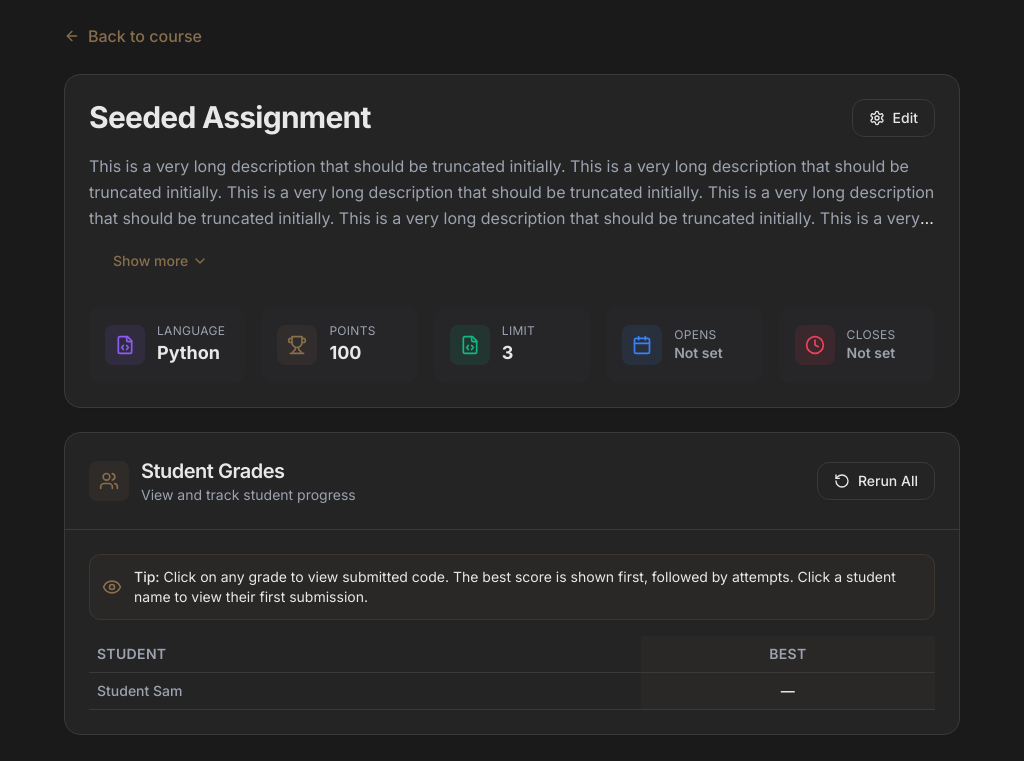
Test: AssignmentDetailPage (MSW, updated) › faculty view: expands description
Click the button "Show more". click: (161, 261)
box: x1=89 y1=239 x2=232 y2=283
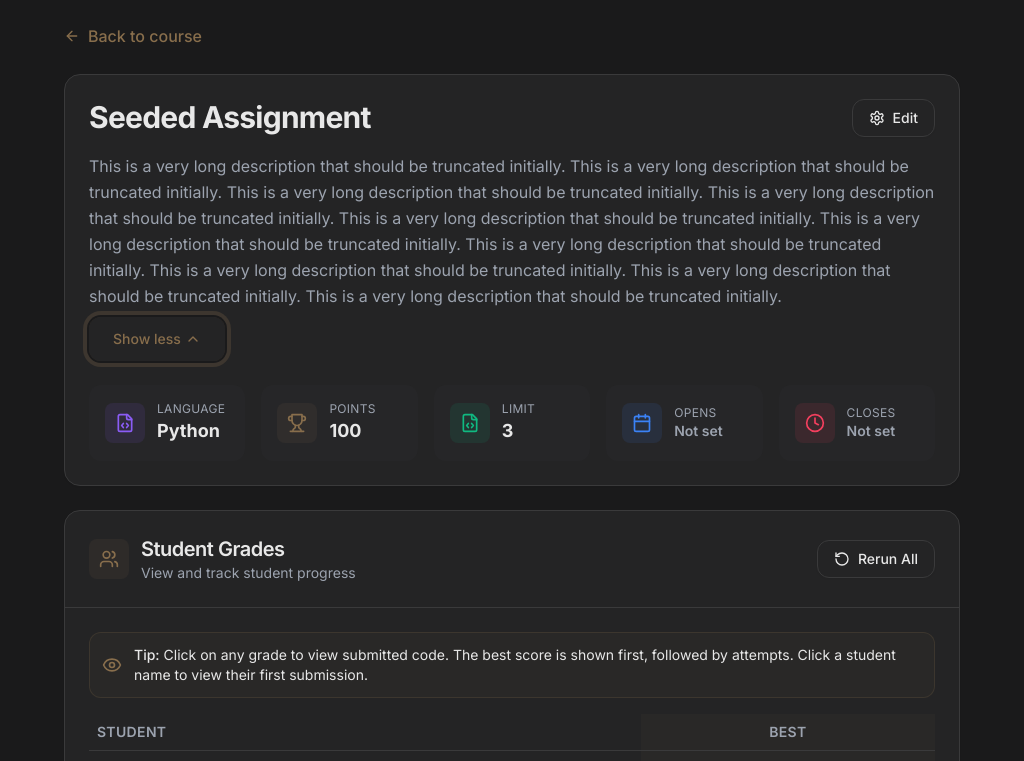
Expected: the button "Show less" is shown, x1=89 y1=317 x2=225 y2=361
